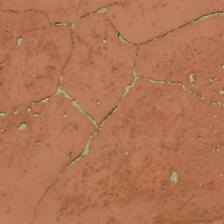Crack: (0, 0, 141, 159), (15, 0, 121, 96), (126, 91, 224, 120), (68, 23, 124, 59)
